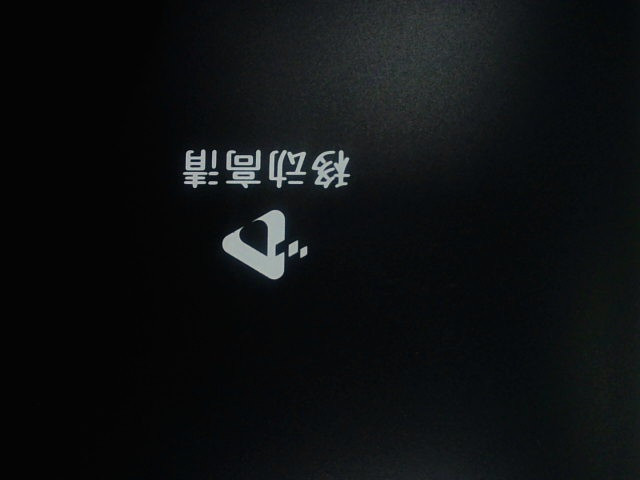AO_MobileHD: (166, 126, 367, 293)
